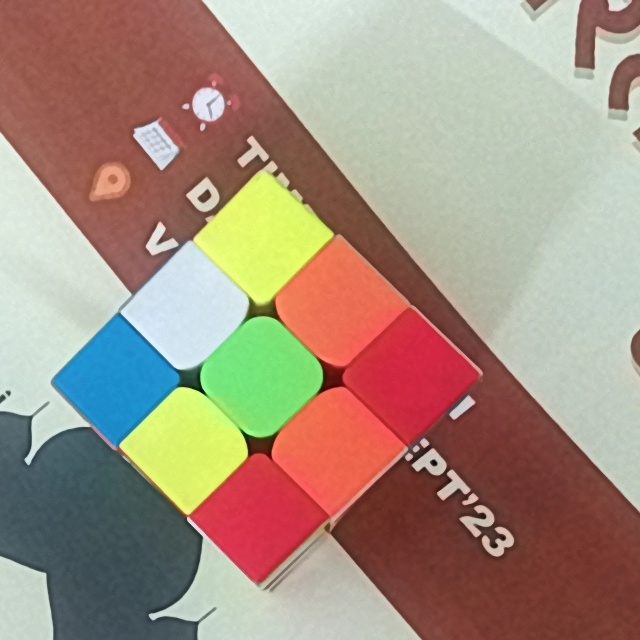tile: (302, 268, 371, 338), (305, 411, 373, 481), (229, 342, 294, 412), (226, 482, 290, 553), (380, 336, 444, 406), (153, 416, 216, 487), (151, 281, 220, 345), (226, 209, 292, 273), (80, 354, 145, 414)
